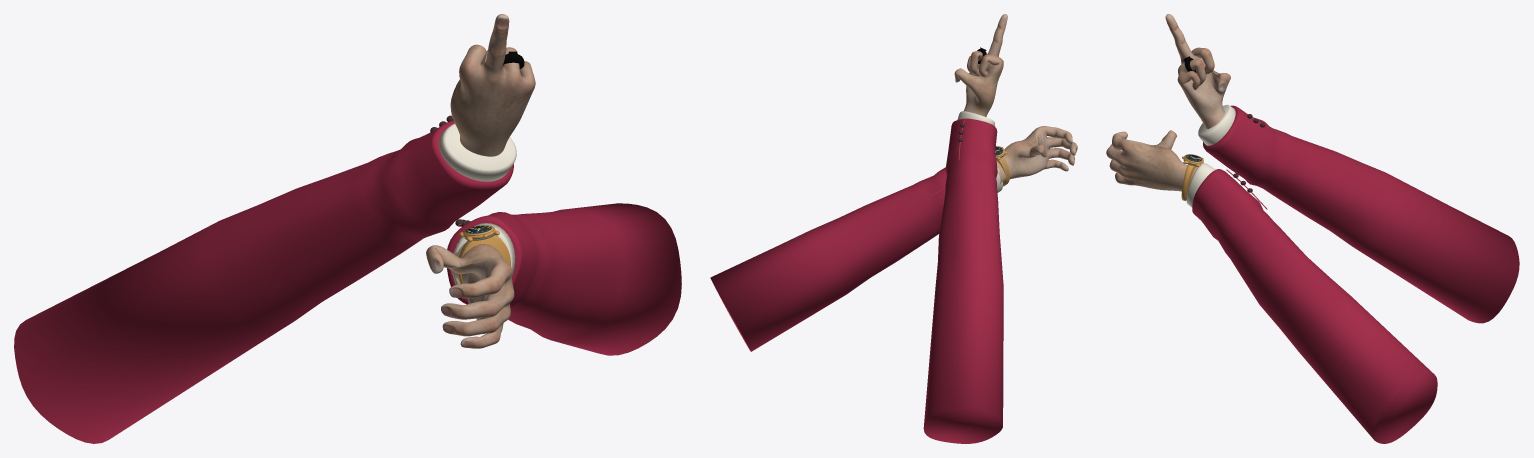
File: fps_hands_flipoff.glb
3 views of the same model, side by side, from view 1: azimuth 30°, elevation 25°; view 2: azimuth 150°, elevation 25°; view 3: azimuth 270°, elevation 25° (orthographic). The views are drawn at different scales.
Parts seen in each view (by area): view 1: Right, Left; view 2: Right, Left; view 3: Right, Left.
Part boxes in pixels (bbox=[...]): Right: bbox=[14, 14, 535, 443]; Left: bbox=[426, 203, 681, 355]; Right: bbox=[923, 14, 1007, 443]; Left: bbox=[710, 126, 1077, 351]; Right: bbox=[1165, 14, 1519, 323]; Left: bbox=[1106, 130, 1437, 443].
Bounding box in the file's own units: 0.6502 × 0.5919 × 0.6279.
10 materials, 1 textured.
